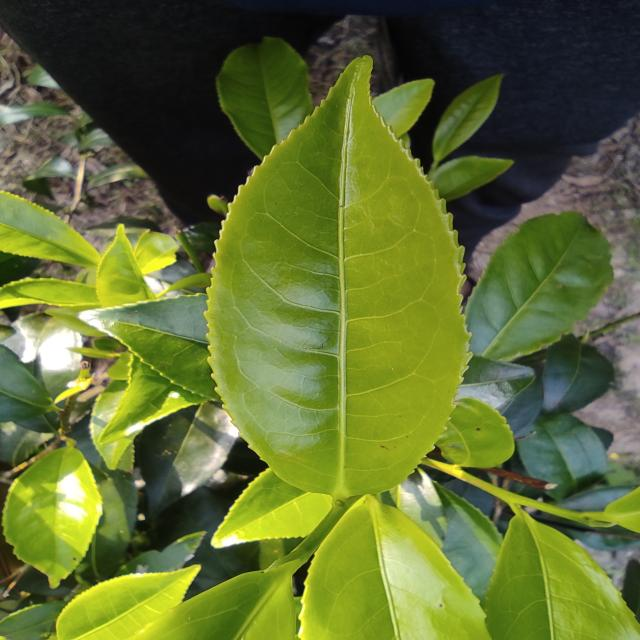Category B(2-4 days): (183, 37, 505, 513)
